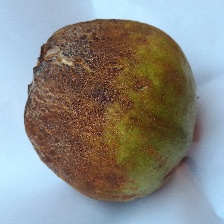guava: (43, 37, 198, 177)
